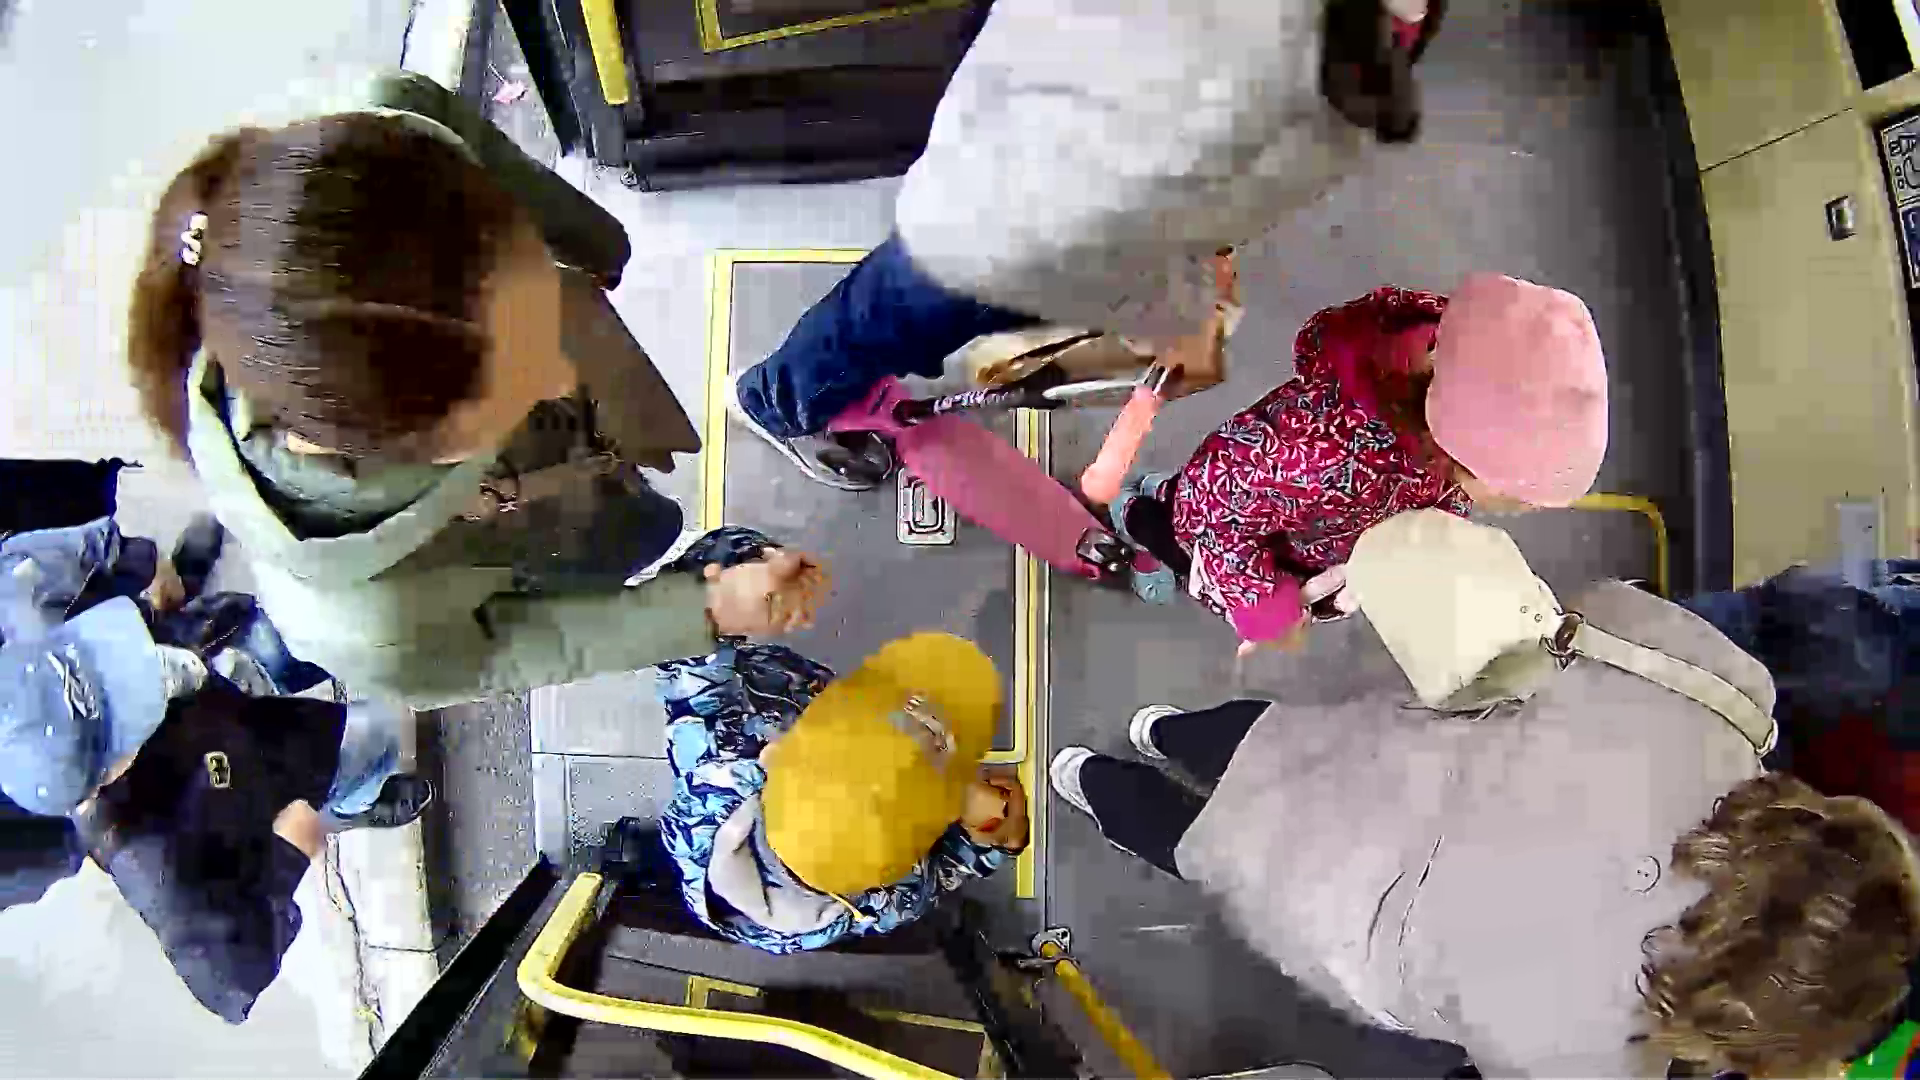person: (141, 113, 780, 686), (1160, 581, 1902, 1074), (1047, 274, 1724, 664), (630, 501, 1109, 954)
